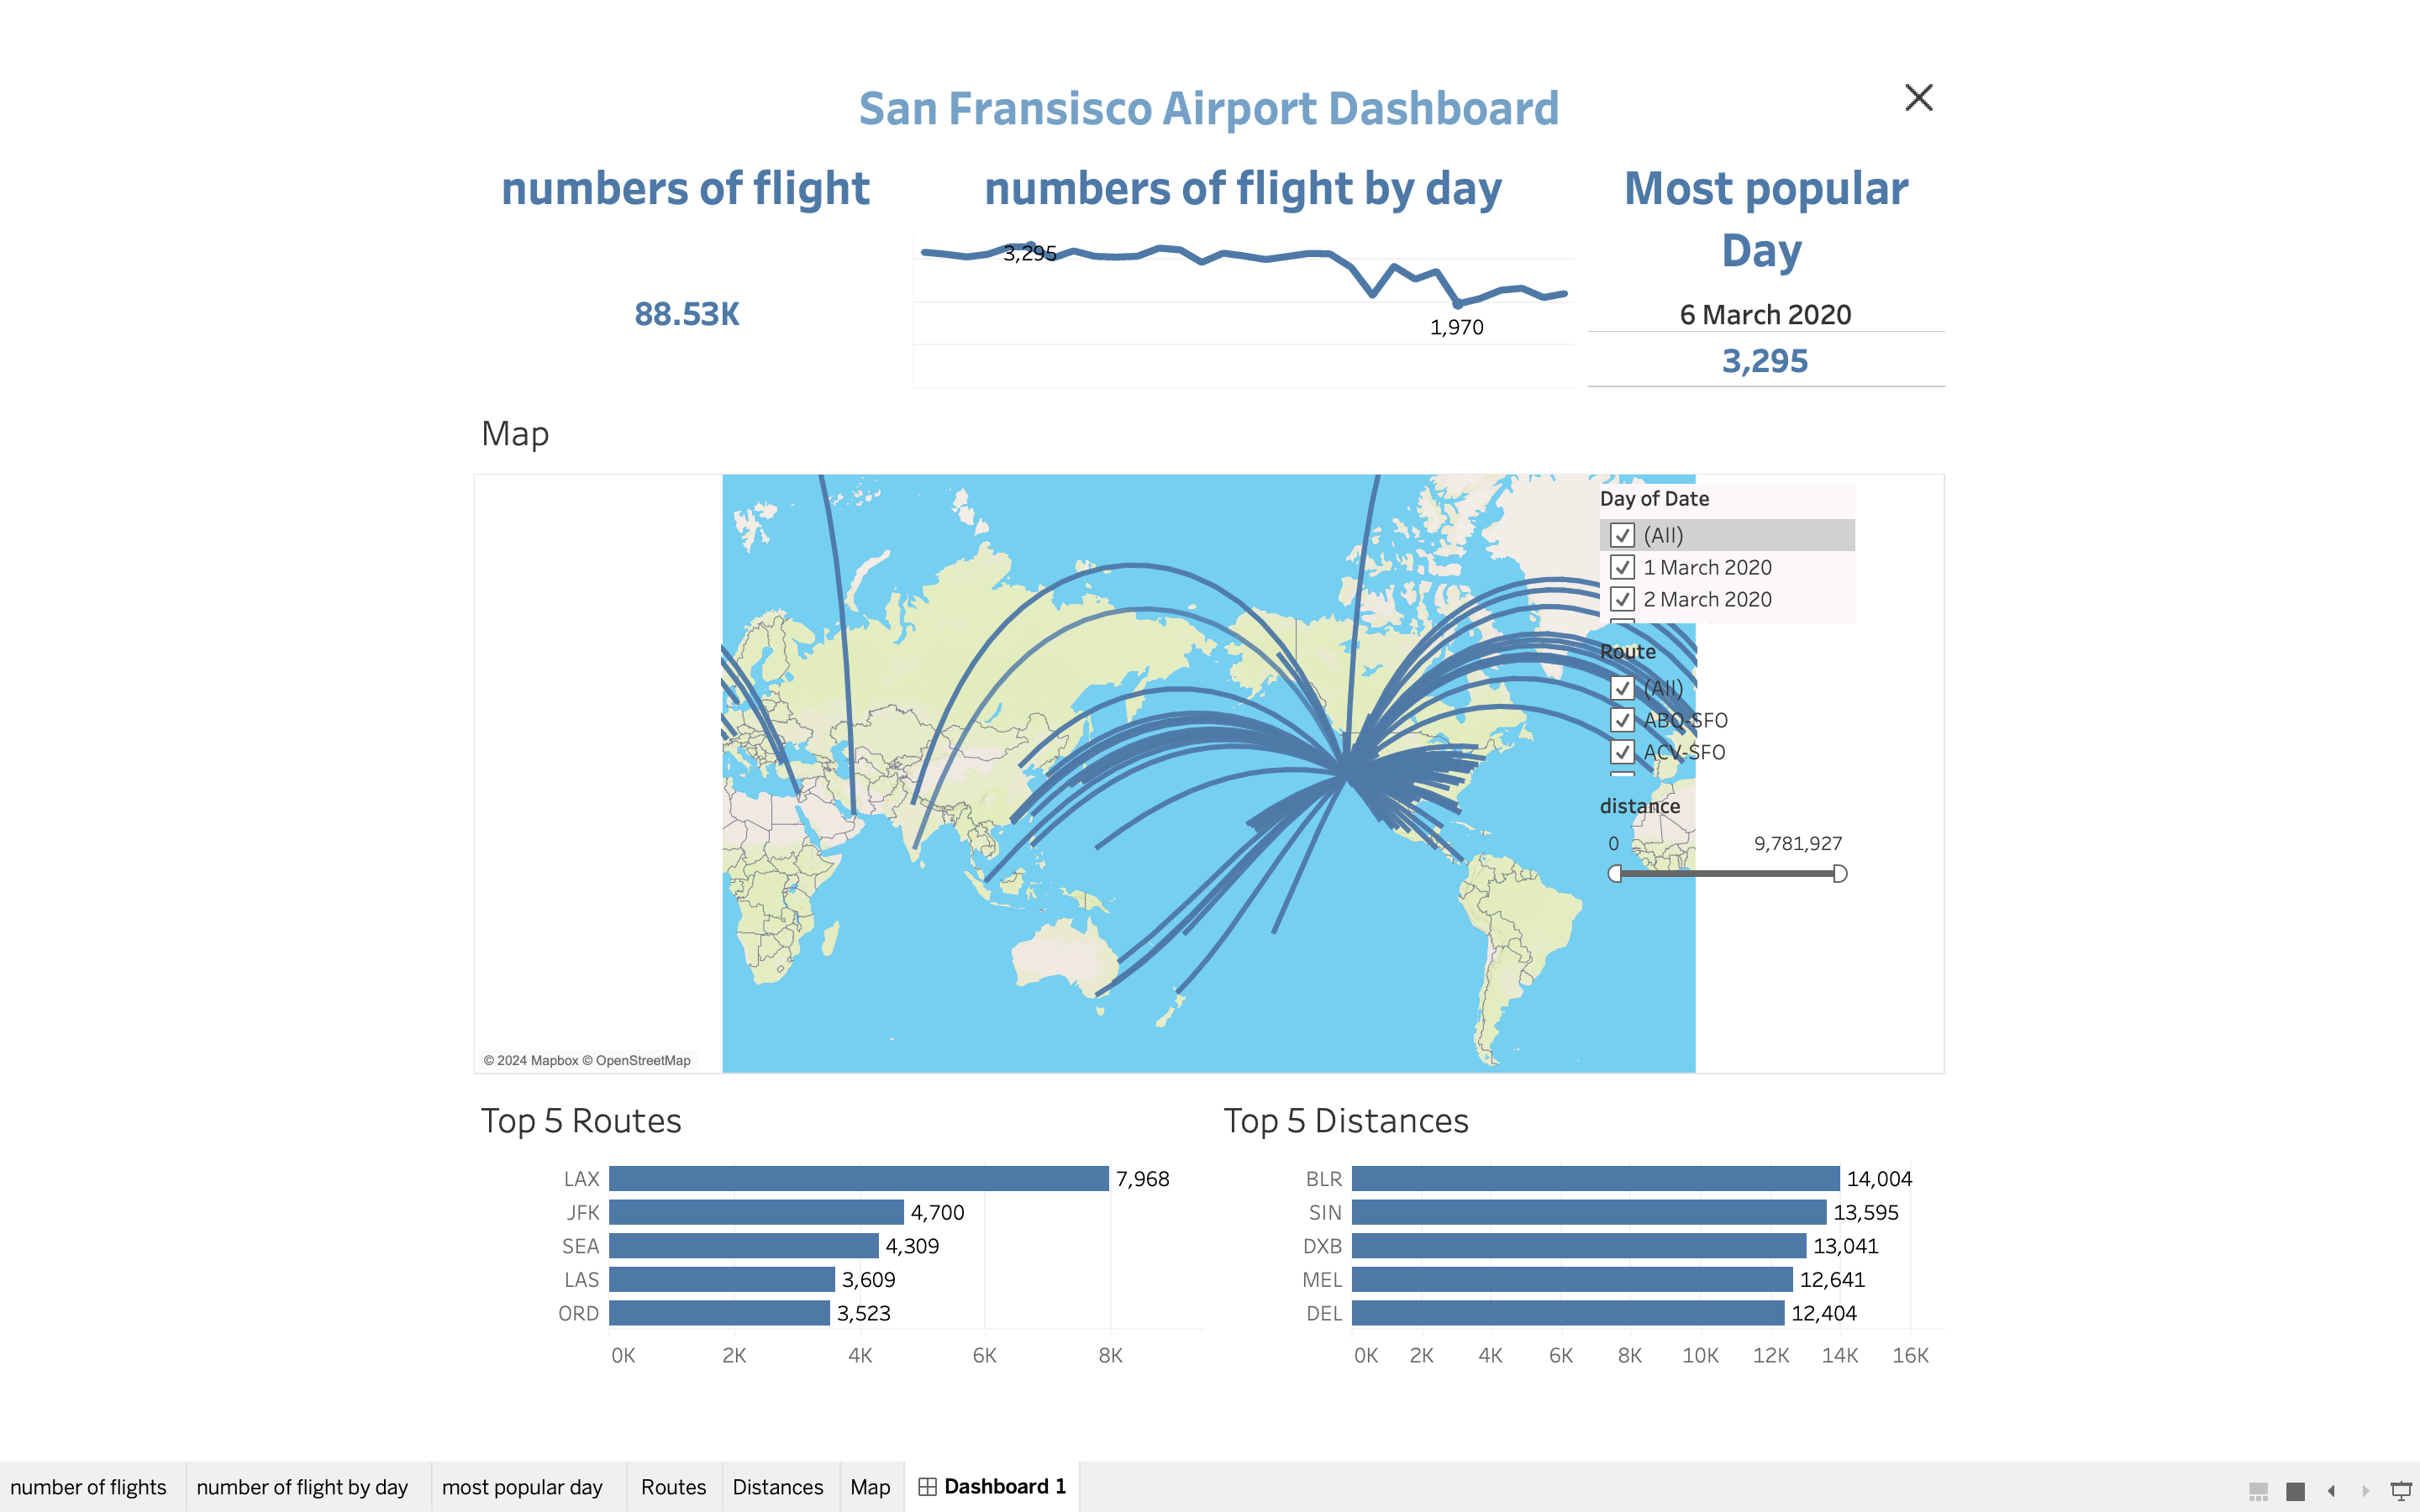

What the dashboard file says about the page in this screenshot:
{"tool":"tableau","page":{"name":"Dashboard 1","canvas":[900,800],"ordinal":0},"visuals":[{"type":"text","box":[8,8,884,41]},{"type":"dashboard-object","box":[860,11,24,24]},{"type":"worksheet","title":"number of flights","mark":"Automatic","box":[8,49,261.4,151]},{"type":"worksheet","title":"number of flight by day","mark":"Automatic","rows":["Calculation_143904100954873856"],"cols":["Date"],"box":[269.4,49,401.6,151]},{"type":"worksheet","title":"most popular day ","mark":"Automatic","cols":["Date"],"box":[671,49,221,151]},{"type":"worksheet","title":"Map","mark":"Automatic","box":[8,200,884,409]},{"type":"filter","title":"most popular day ","param":"[federated.1xu6jux1ssuf9i1ejb2ly16frc0j].[tdy:Date:ok]","box":[678,249,160,91.5]},{"type":"filter","title":" Routes","param":"[federated.1xu6jux1ssuf9i1ejb2ly16frc0j].[none:Route:nk]","box":[678,340.5,160,91.5]},{"type":"filter","title":"Map","param":"[federated.1xu6jux1ssuf9i1ejb2ly16frc0j].[sum:Calculation_143904100964532228:qk]","box":[678,432,160,69]},{"type":"worksheet","title":" Routes","mark":"Automatic","rows":["Calculation_143904100962217985"],"cols":["Calculation_143904100954873856"],"box":[8,609,442,183]},{"type":"worksheet","title":"Distances","mark":"Automatic","rows":["Calculation_143904100962217985"],"cols":["Calculation_143904100964532228"],"box":[450,609,442,183]}]}

Visuals, with their boxes on the page's 900x800 design canvas (x1, y1, x2, y2). These are canvas units, not pixel positions in the 2420x1512 screenshot, which may show the page scaled, cropped or inside an application window:
text: region(8, 8, 892, 49)
dashboard-object: region(860, 11, 884, 35)
"number of flights" worksheet: region(8, 49, 269, 200)
"number of flight by day" worksheet: region(269, 49, 671, 200)
"most popular day " worksheet: region(671, 49, 892, 200)
"Map" worksheet: region(8, 200, 892, 609)
"most popular day " filter: region(678, 249, 838, 340)
" Routes" filter: region(678, 340, 838, 432)
"Map" filter: region(678, 432, 838, 501)
" Routes" worksheet: region(8, 609, 450, 792)
"Distances" worksheet: region(450, 609, 892, 792)
